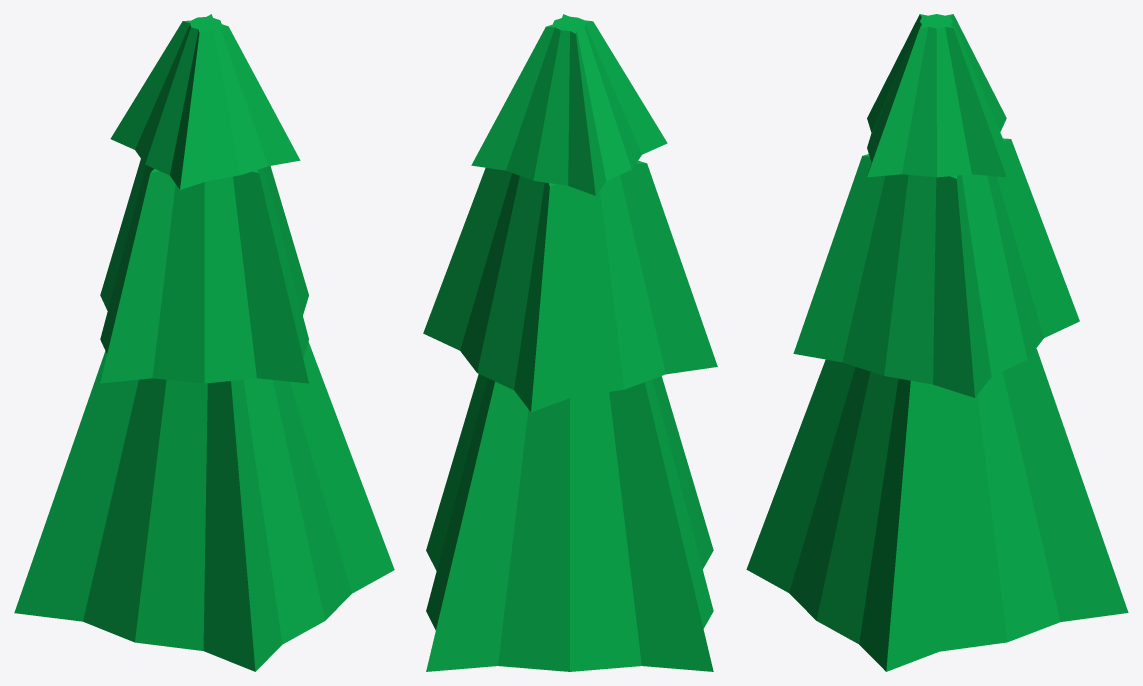
Rendered from Tree spruce small.fbx.
3 views of the same model, side by side, from view 1: azimuth 30°, elevation 25°; view 2: azimuth 150°, elevation 25°; view 3: azimuth 270°, elevation 25° (orthographic). The views are drawn at different scales.
Parts seen in each view (by area): view 1: Tree; view 2: Tree; view 3: Tree.
Boxes of the visible parts, left/top/right/bottom form: Tree: left=14, top=14, right=394, bottom=671; Tree: left=423, top=14, right=717, bottom=671; Tree: left=746, top=14, right=1128, bottom=671.
Size of the model in its own units: 219 by 360 by 219.
